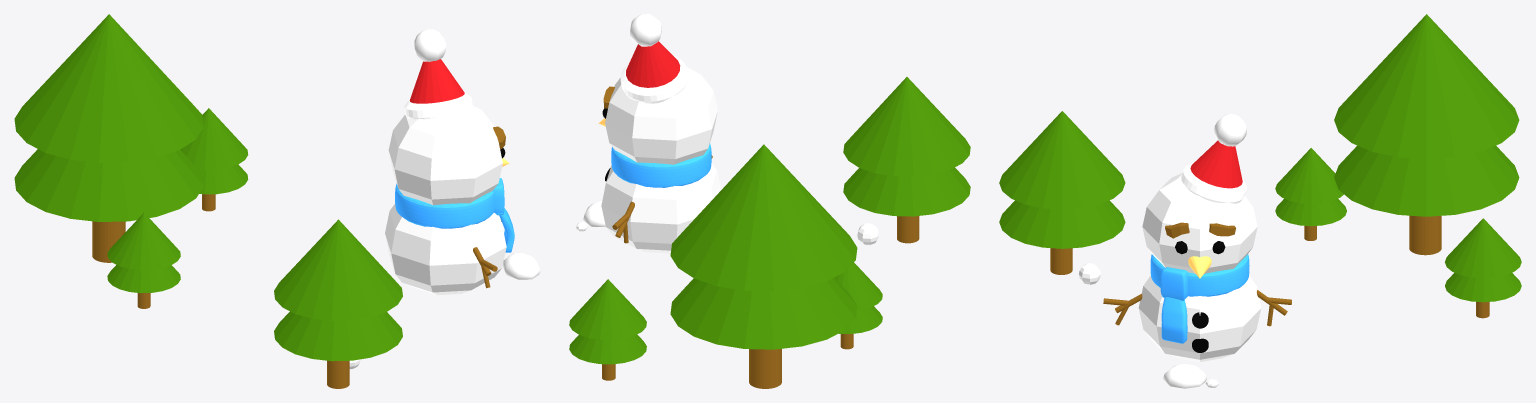
The model's file is snowman.glb.
The picture shows the model from 3 angles, left to right: view 1: azimuth 30°, elevation 25°; view 2: azimuth 150°, elevation 25°; view 3: azimuth 270°, elevation 25°; orthographic projection. The views are drawn at different scales.
Parts seen in each view (by area): view 1: Cone.003_Cone.008, Cone.004_Cone.009, head_Sphere.003, Cone.002_Cone.007, body_Sphere.002, Cone.001_Cone.006, Cone.006_Cone.011, Cylinder.001_Cylinder.003, Cone.007_Cone.012, Cone_Cone.005, Cone.005_Cone.010, Cone.008_Cone.013 (+5 smaller); view 2: Cone.003_Cone.008, Cone.004_Cone.009, Cone.002_Cone.007, head_Sphere.003, body_Sphere.002, Cone.001_Cone.006, Cone.007_Cone.012, Cylinder.001_Cylinder.003, Cone_Cone.005, Cone.008_Cone.013, Cylinder.011_Cylinder.013, Cylinder_Cylinder.002 (+6 smaller); view 3: Cone.003_Cone.008, Cone.004_Cone.009, Cone.002_Cone.007, head_Sphere.003, body_Sphere.002, Cone.001_Cone.006, Cone.007_Cone.012, Cone.006_Cone.011, Cylinder.001_Cylinder.003, Cone_Cone.005, Cone.008_Cone.013, Cone.005_Cone.010 (+7 smaller).
Boxes of the visible parts, <box> form: Cone.003_Cone.008: <box>14,14,203,162</box>; Cone.004_Cone.009: <box>14,149,203,221</box>; head_Sphere.003: <box>388,106,502,205</box>; Cone.002_Cone.007: <box>274,219,402,320</box>; body_Sphere.002: <box>385,203,506,294</box>; Cone.001_Cone.006: <box>274,311,402,361</box>; Cone.006_Cone.011: <box>107,212,180,270</box>; Cylinder.001_Cylinder.003: <box>395,183,494,228</box>; Cone.007_Cone.012: <box>180,108,248,169</box>; Cone_Cone.005: <box>409,59,464,103</box>; Cone.005_Cone.010: <box>107,265,180,293</box>; Cone.008_Cone.013: <box>198,164,248,194</box>; Cone.003_Cone.008: <box>670,144,857,291</box>; Cone.004_Cone.009: <box>670,277,857,349</box>; Cone.002_Cone.007: <box>843,77,970,176</box>; head_Sphere.003: <box>605,67,717,164</box>; body_Sphere.002: <box>601,163,720,253</box>; Cone.001_Cone.006: <box>843,167,970,216</box>; Cone.007_Cone.012: <box>569,279,646,339</box>; Cylinder.001_Cylinder.003: <box>611,143,711,187</box>; Cone_Cone.005: <box>626,41,680,87</box>; Cone.008_Cone.013: <box>569,334,646,364</box>; Cylinder.011_Cylinder.013: <box>749,348,781,388</box>; Cylinder_Cylinder.002: <box>620,55,687,103</box>; Cone.003_Cone.008: <box>1334,14,1519,159</box>; Cone.004_Cone.009: <box>1334,145,1519,216</box>; Cone.002_Cone.007: <box>999,111,1125,209</box>; head_Sphere.003: <box>1142,173,1257,273</box>; body_Sphere.002: <box>1138,275,1261,361</box>; Cone.001_Cone.006: <box>999,200,1125,248</box>; Cone.007_Cone.012: <box>1445,218,1521,278</box>; Cone.006_Cone.011: <box>1275,148,1343,203</box>; Cylinder.001_Cylinder.003: <box>1150,254,1249,296</box>; Cone_Cone.005: <box>1190,140,1242,188</box>; Cone.008_Cone.013: <box>1445,272,1521,302</box>; Cone.005_Cone.010: <box>1275,198,1346,226</box>.
Size of the model in its own units: 3.92 by 2.42 by 4.72.
